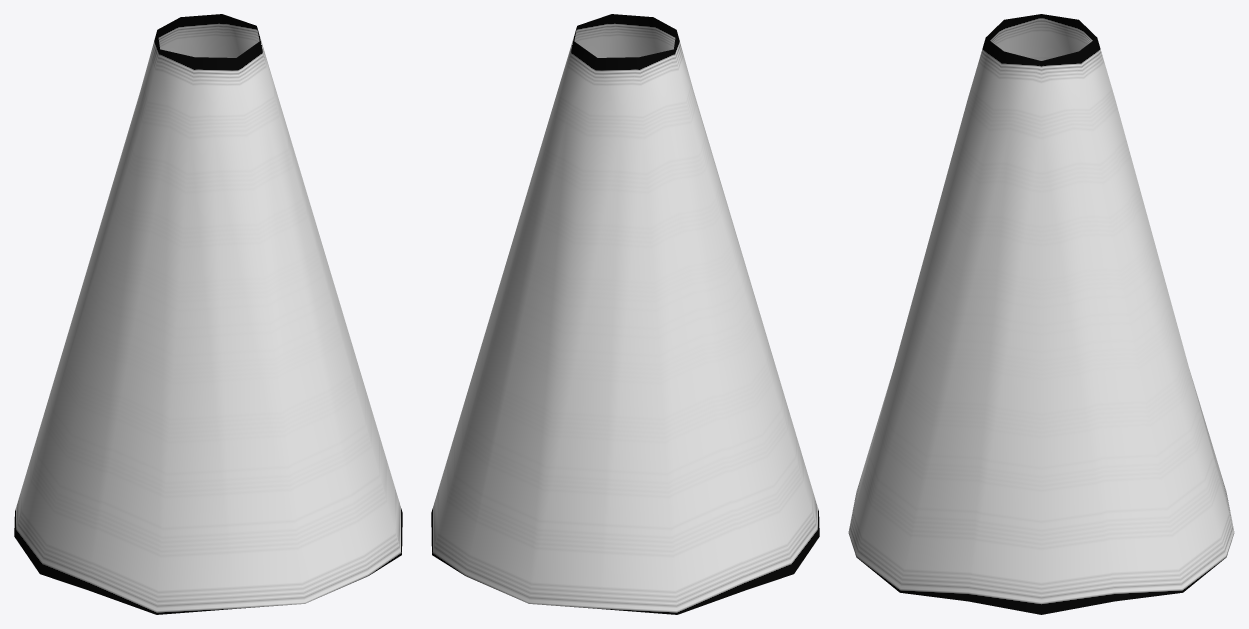
The model's file is light.fbx.
3 views of the same model, side by side, from view 1: azimuth 30°, elevation 25°; view 2: azimuth 150°, elevation 25°; view 3: azimuth 270°, elevation 25° (orthographic).
Parts seen in each view (by area): view 1: Cube; view 2: Cube; view 3: Cube.
Boxes of the visible parts, x1,y1,x2,y2 form: Cube: (14, 14, 402, 614); Cube: (431, 14, 819, 614); Cube: (848, 14, 1234, 614).
Size of the model in its own units: 64.99 by 91.66 by 64.48.
